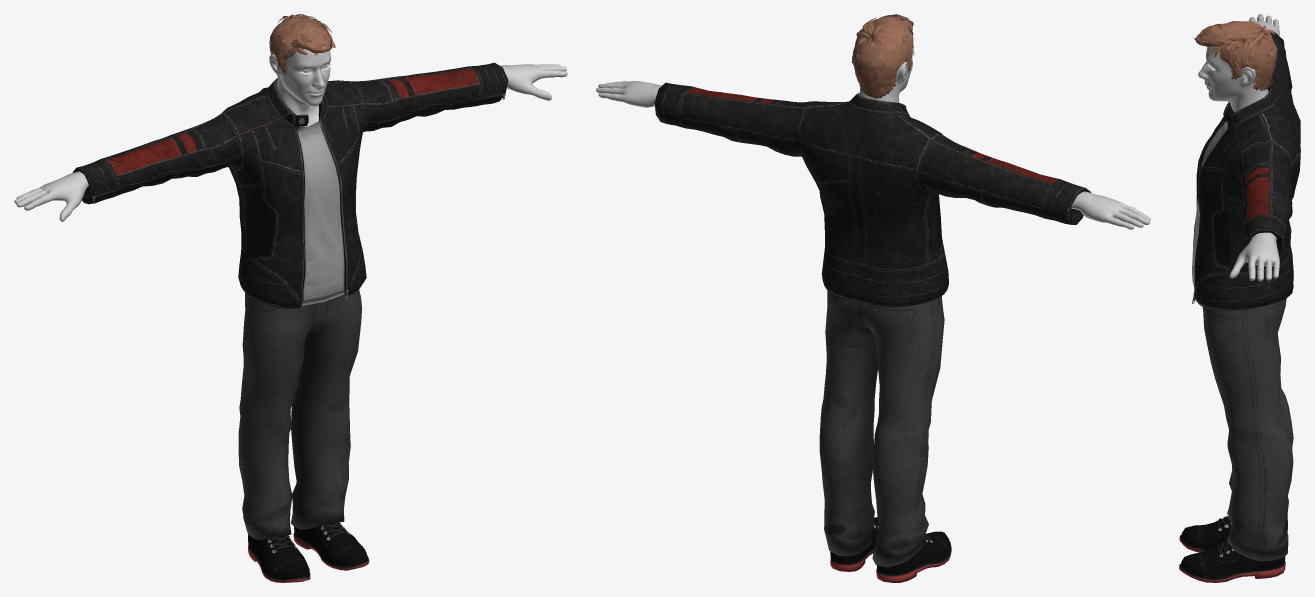
The picture shows the model from 3 angles, left to right: view 1: azimuth 30°, elevation 25°; view 2: azimuth 150°, elevation 25°; view 3: azimuth 270°, elevation 25°; orthographic projection.
Parts seen in each view (by area): view 1: Tops, Bottoms, Body, Shoes, Hair; view 2: Tops, Bottoms, Hair, Body, Shoes; view 3: Tops, Bottoms, Body, Shoes, Hair.
Part boxes in pixels (x1,y1,x2,y2): Tops: (72, 62, 508, 308); Bottoms: (238, 289, 361, 539); Body: (14, 19, 567, 221); Shoes: (248, 522, 369, 582); Hair: (269, 14, 335, 75); Tops: (654, 82, 1091, 307); Bottoms: (819, 291, 944, 567); Hair: (851, 14, 913, 98); Body: (596, 48, 1150, 229); Shoes: (830, 517, 951, 582); Tops: (1192, 32, 1300, 310); Bottoms: (1202, 298, 1293, 561); Body: (1198, 14, 1279, 281); Shoes: (1179, 516, 1285, 582); Hair: (1194, 21, 1277, 90).
Size of the model in its own units: 194 by 182 by 37.38.
